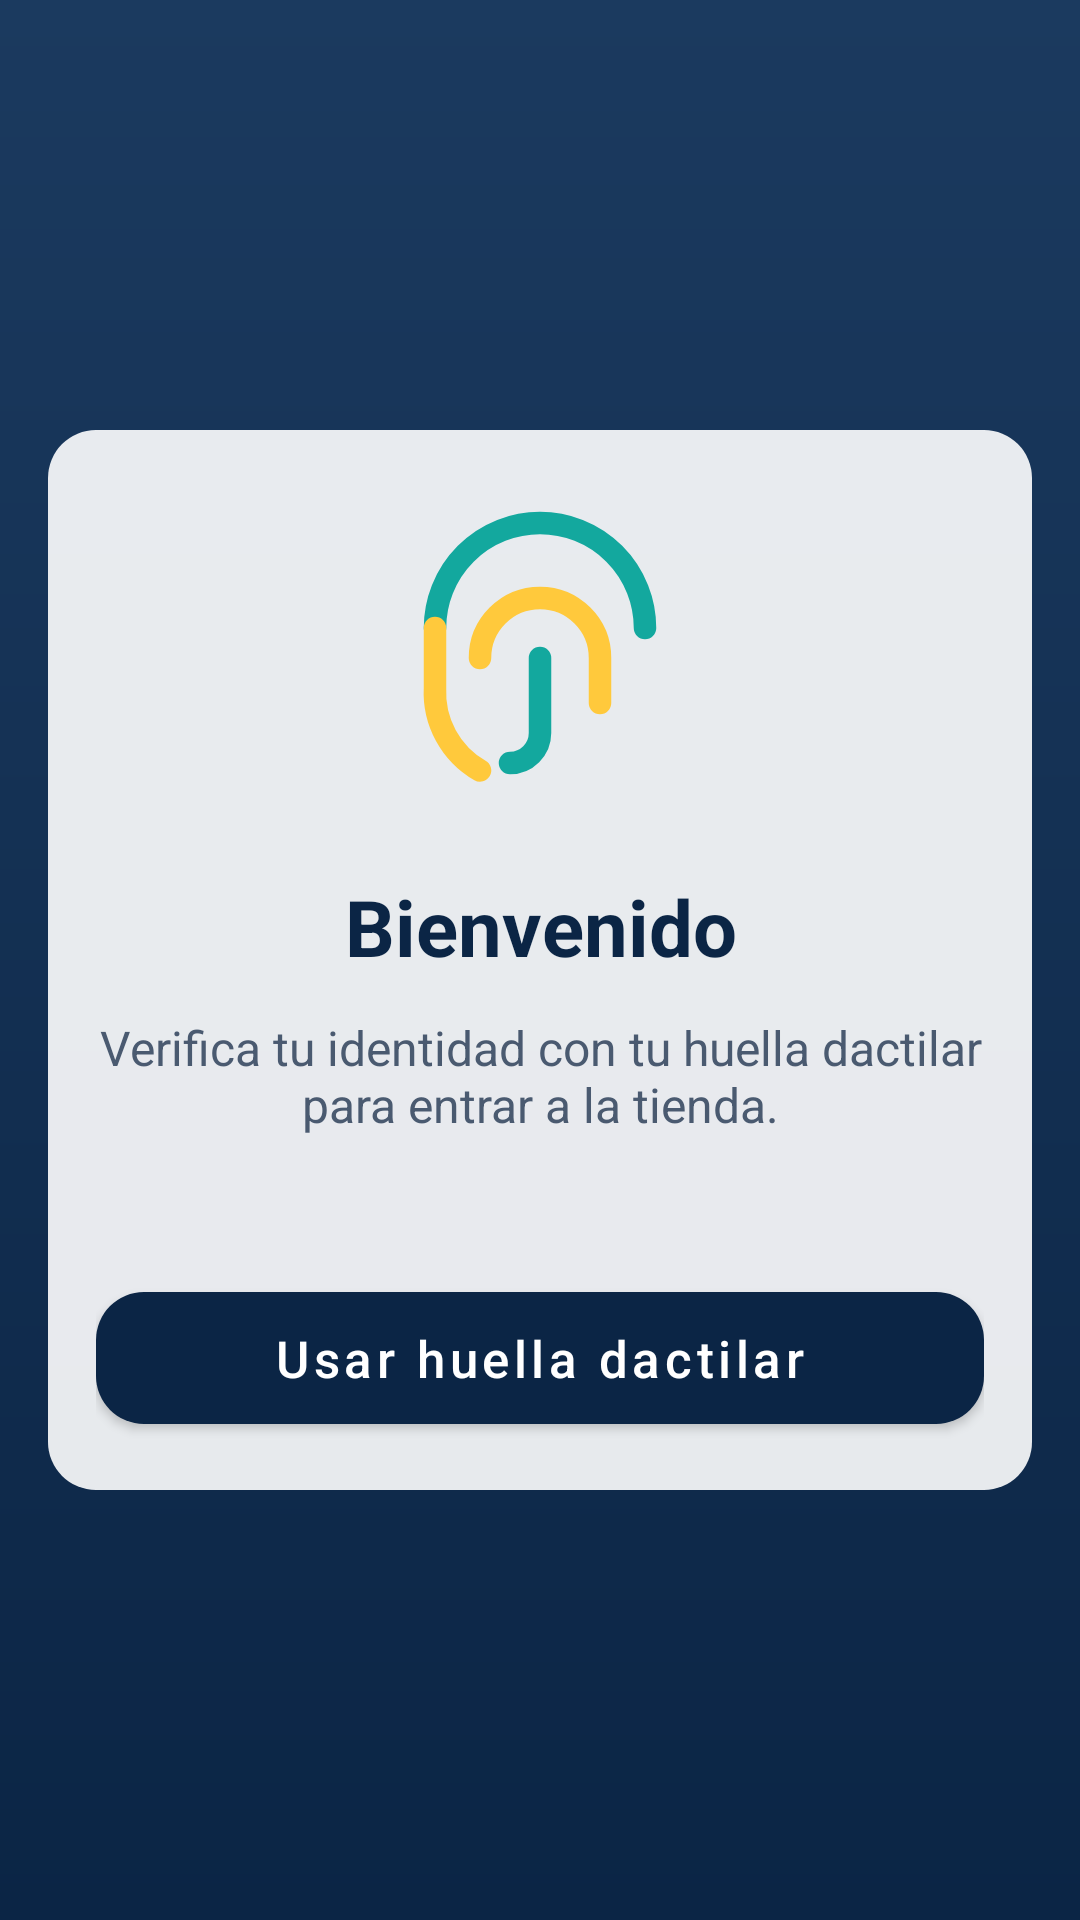

Named icons in this screenshot (1080x1920) and their centers, [x,y]:
Icono de huella dactilar: [540,646]
